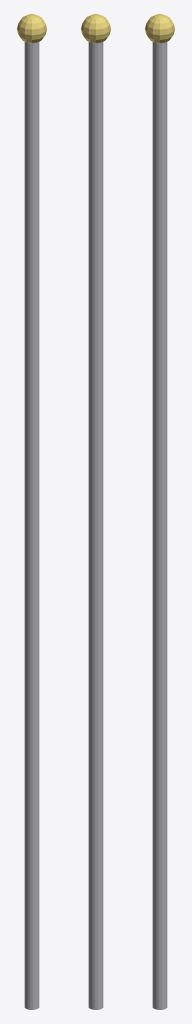
File: equipment-flag-pole.glb
3 views of the same model, side by side, from view 1: azimuth 30°, elevation 25°; view 2: azimuth 150°, elevation 25°; view 3: azimuth 330°, elevation 25° (orthographic).
Parts seen in each view (by area): view 1: Pole; view 2: Pole; view 3: Pole.
Boxes of the visible parts, left/top/right/bottom form: Pole: left=17, top=14, right=46, bottom=1009; Pole: left=81, top=14, right=110, bottom=1009; Pole: left=145, top=14, right=174, bottom=1009.
Bounding box in the file's own units: 0.0508 × 1.85 × 0.0508.
